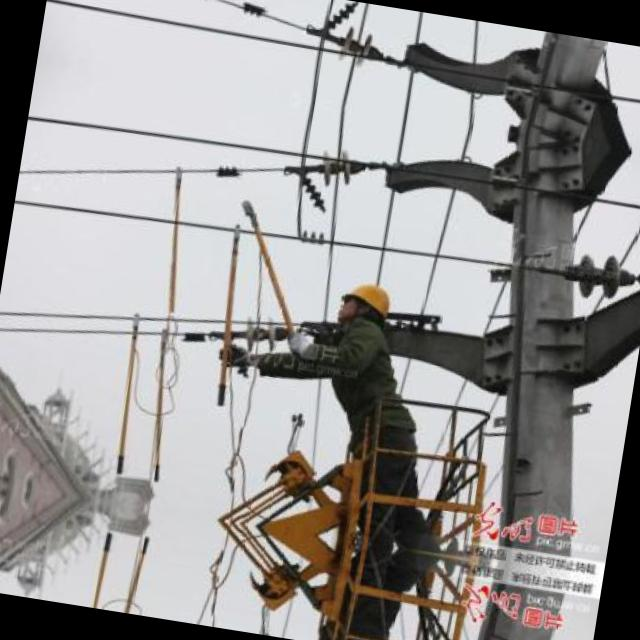helmet: (334, 276, 394, 336)
